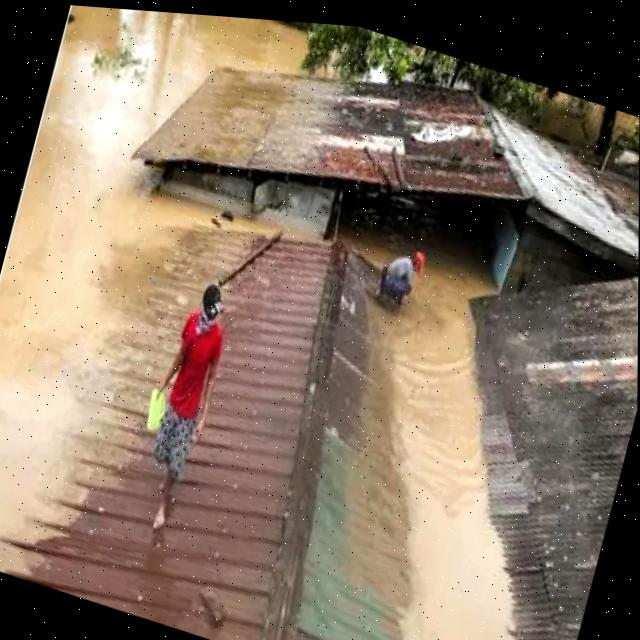civilian: (119, 256, 247, 560), (368, 233, 429, 326)
